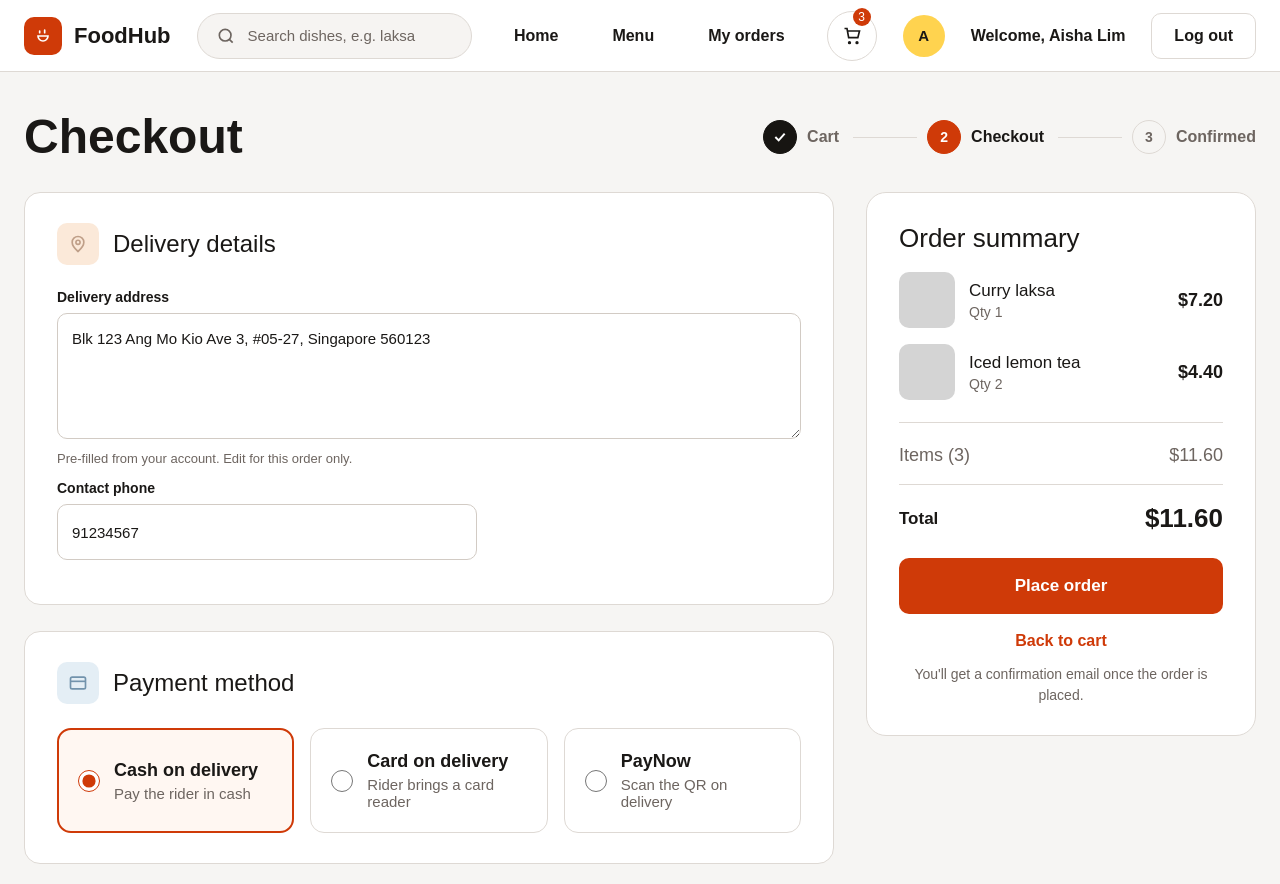
Checkout › places a Pending order with the chosen payment, empties the cart and opens the order
Step 1. Click the radio button labelled "PayNow Scan the QR on delivery" → (596, 781), box [585,770,607,792]
(page scrolled)
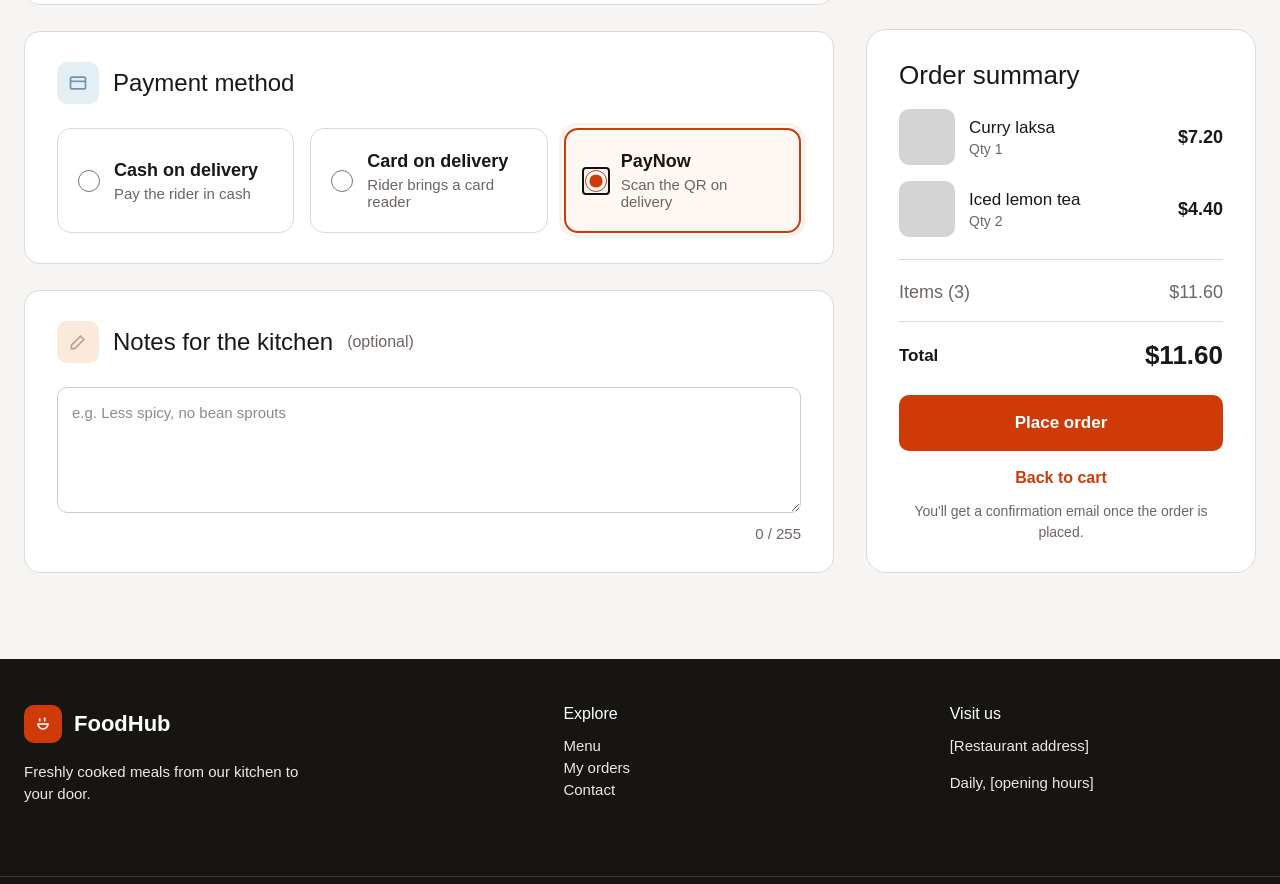
Step 2. Type "Less spicy" into the text box named "Notes for the kitchen" → (429, 450), box [57,387,801,513]
(page scrolled)
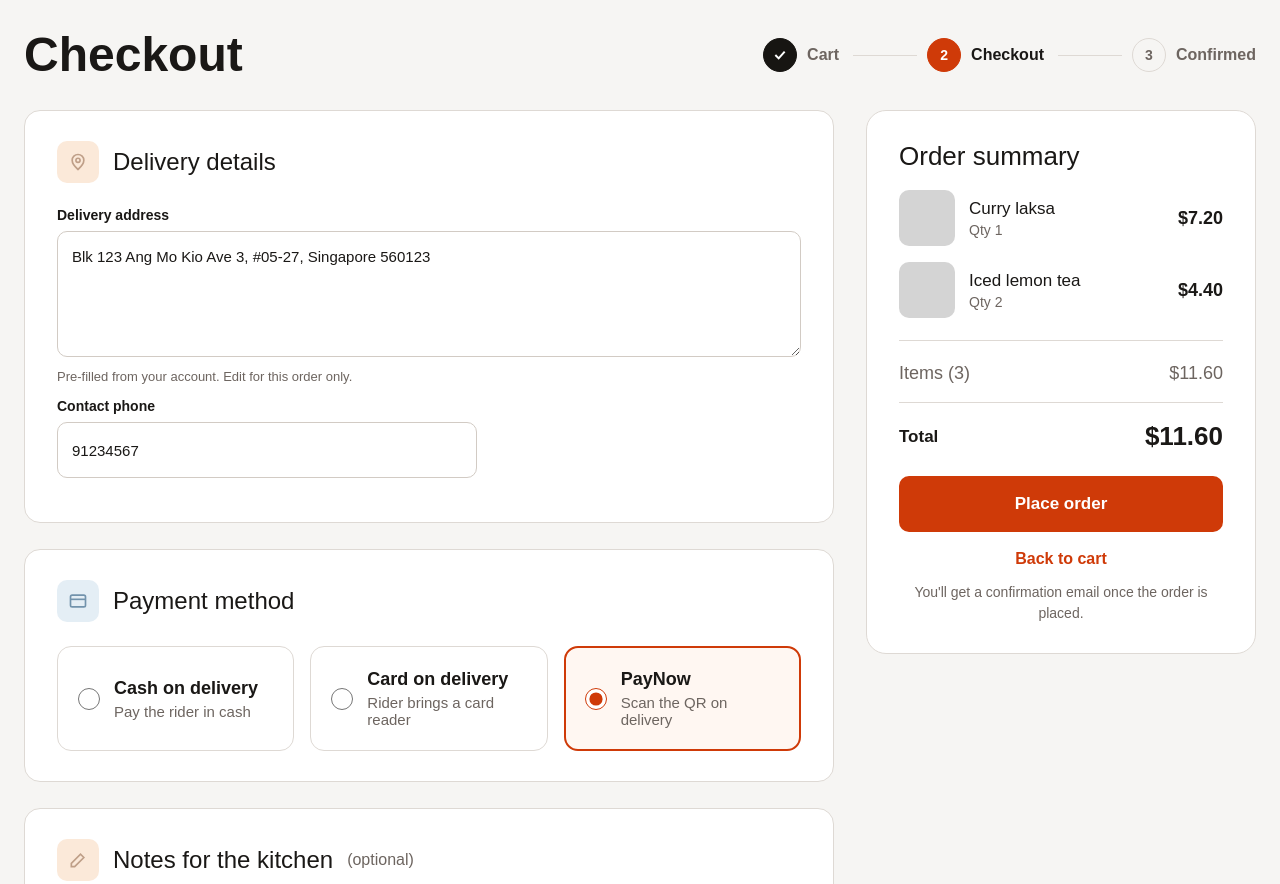
Step 3. Replace the text in the field labelled "Contact phone" with "98765432" → (267, 450), box [57,422,477,478]
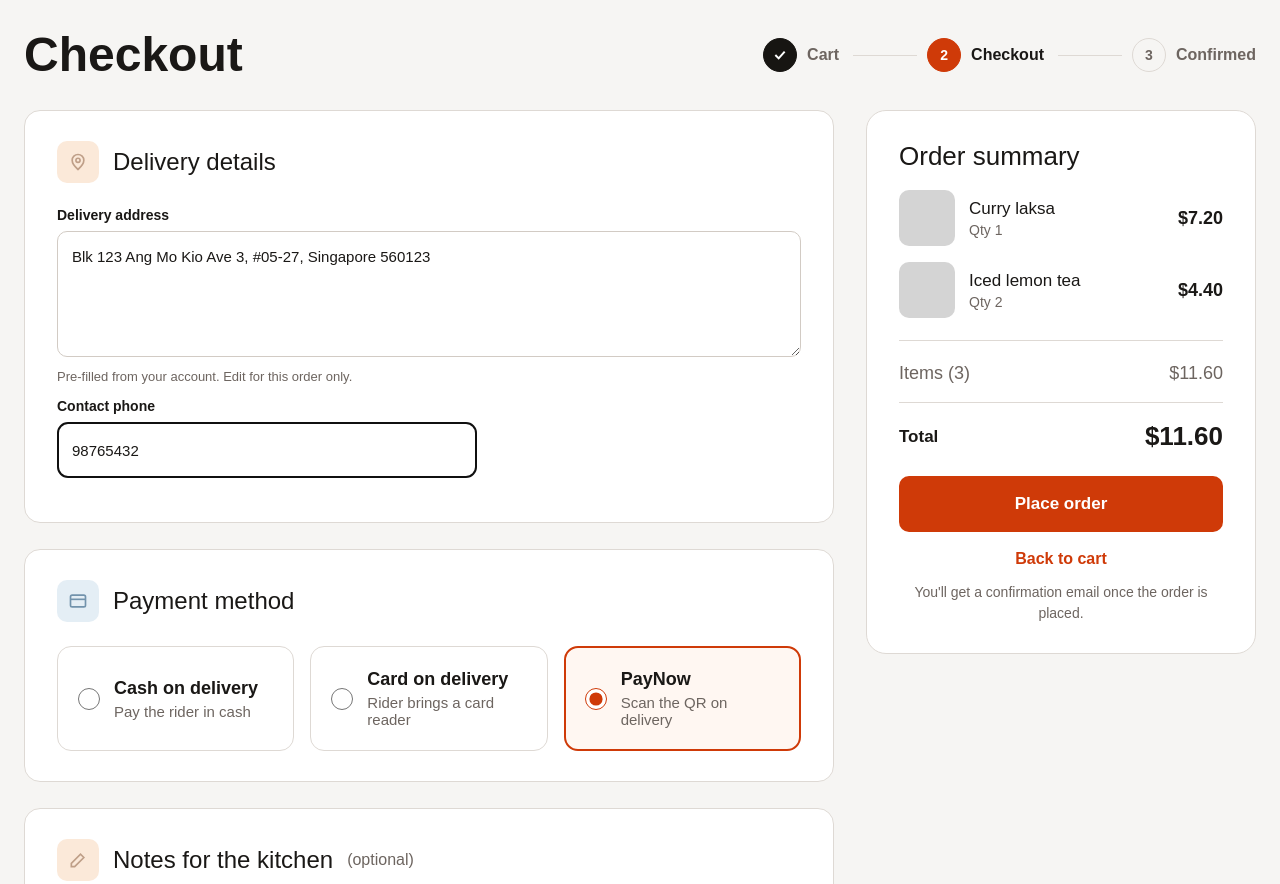
Step 4. Click the button "Place order" → (1061, 504), box [899,476,1223,532]
(page scrolled)
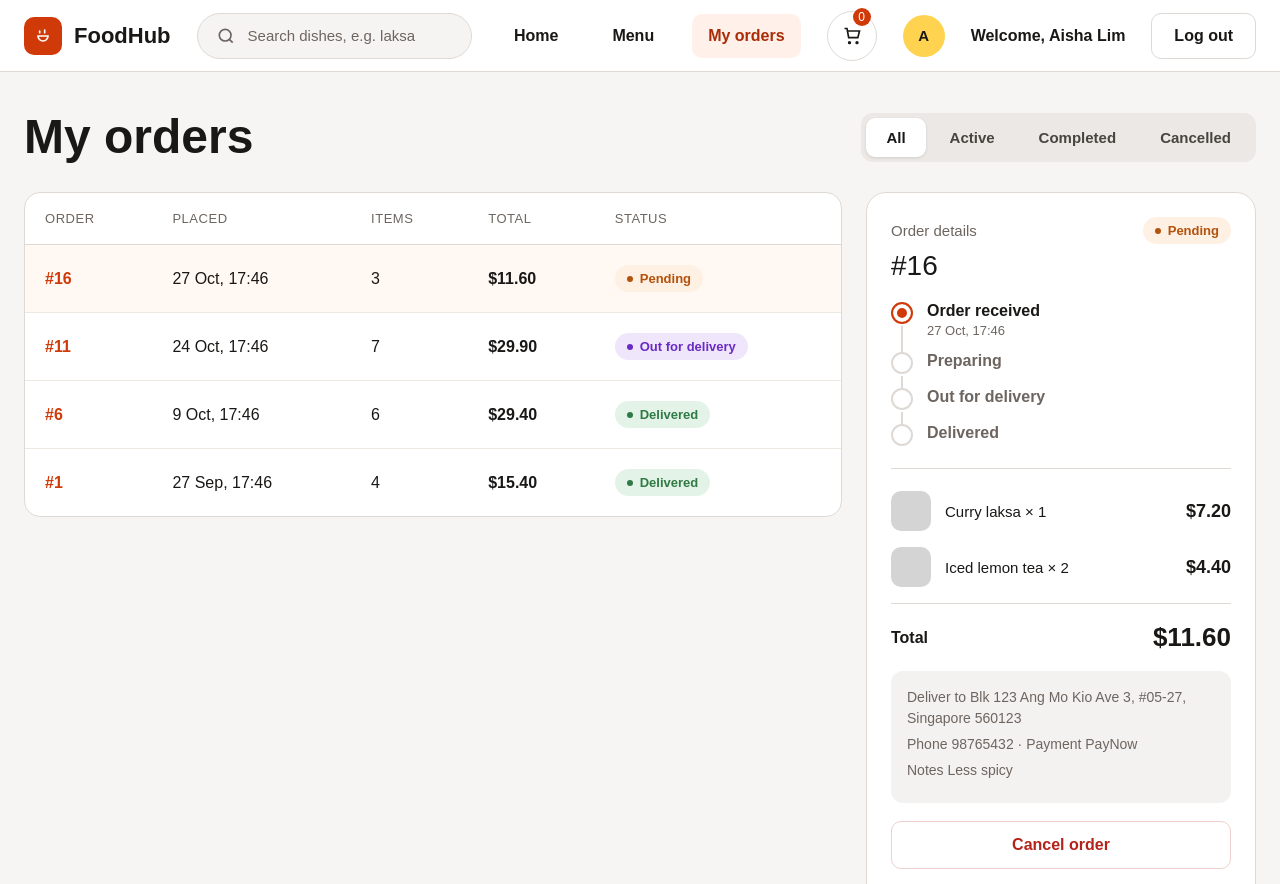
expect the link named "Cart, 0 items" is shown: met, box [827,10,877,60]
